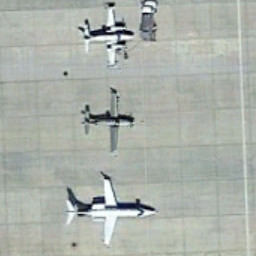Airplane: (45, 168, 163, 251), (62, 82, 143, 162), (71, 1, 143, 72)
